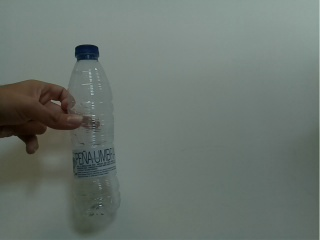botella plastico: (62, 40, 126, 222)
